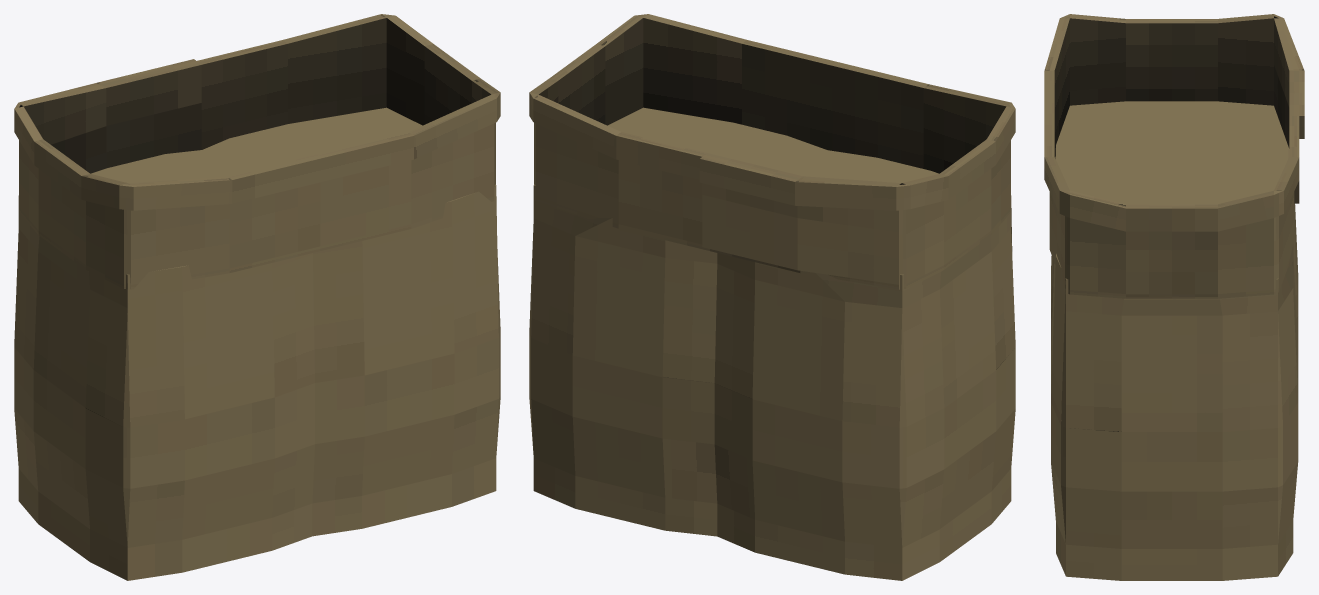
The picture shows the model from 3 angles, left to right: view 1: azimuth 30°, elevation 25°; view 2: azimuth 150°, elevation 25°; view 3: azimuth 270°, elevation 25°; orthographic projection. The views are drawn at different scales.
Parts seen in each view (by area): view 1: left_leg, body, right_leg; view 2: left_leg, body, right_leg; view 3: right_leg, body, left_leg.
Part boxes in pixels (bbox=[...]): left_leg: bbox=[14, 149, 314, 580]; body: bbox=[14, 14, 500, 289]; right_leg: bbox=[203, 107, 500, 536]; left_leg: bbox=[714, 149, 1015, 580]; body: bbox=[529, 14, 1015, 289]; right_leg: bbox=[529, 107, 831, 536]; right_leg: bbox=[1051, 186, 1298, 580]; body: bbox=[1044, 14, 1304, 298]; left_leg: bbox=[1051, 101, 1298, 413].
Bounding box in the file's own units: 0.5555 × 0.5256 × 0.3219.
Materials: 1 (1 with a texture image).
